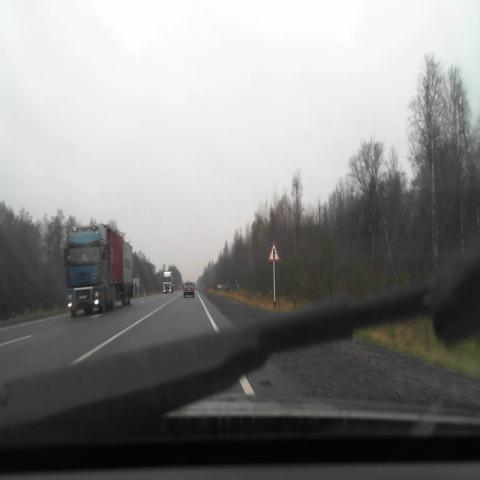2_3_2: (267, 240, 281, 261)
